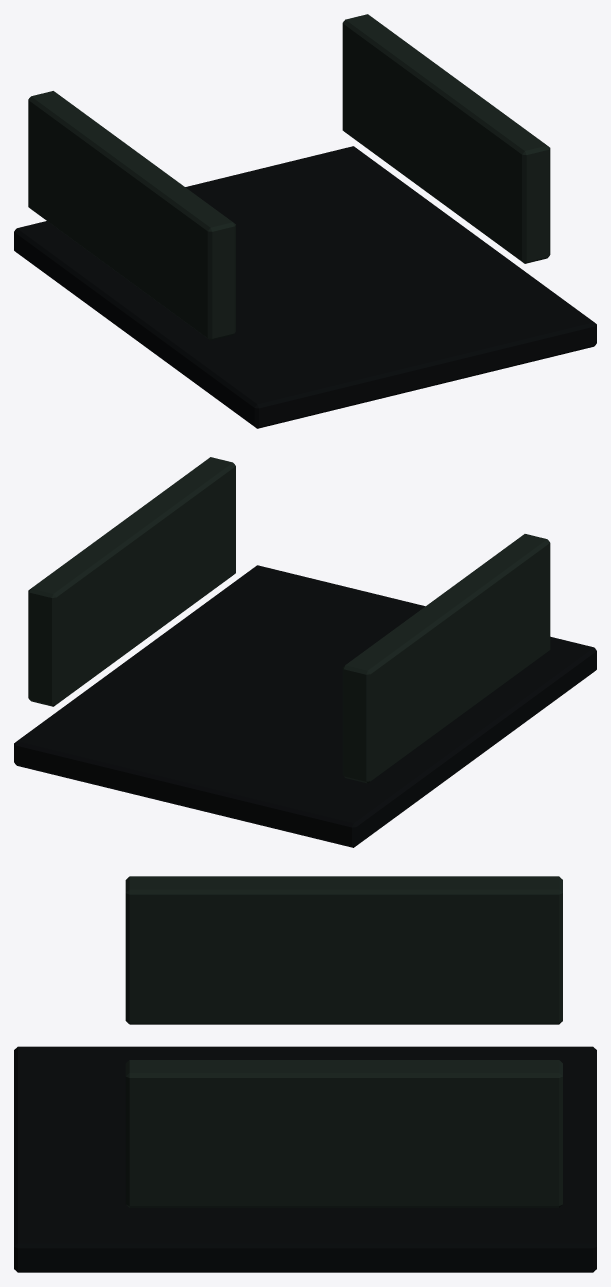
The model's file is Cockpit_DropPod__Shell.obj.
The picture shows the model from 3 angles, top to bottom: view 1: azimuth 30°, elevation 25°; view 2: azimuth 150°, elevation 25°; view 3: azimuth 270°, elevation 25°; orthographic projection. The views are drawn at different scales.
Parts seen in each view (by area): view 1: Floor, Side_console.001, Side_console; view 2: Floor, Side_console, Side_console.001; view 3: Floor, Side_console, Side_console.001.
Part boxes in pixels (left/top/right/bottom): Floor: left=14, top=146, right=596, bottom=428; Side_console.001: left=342, top=14, right=550, bottom=263; Side_console: left=28, top=91, right=235, bottom=340; Floor: left=14, top=565, right=596, bottom=847; Side_console: left=342, top=534, right=550, bottom=783; Side_console.001: left=28, top=457, right=235, bottom=706; Floor: left=14, top=1046, right=596, bottom=1272; Side_console: left=125, top=876, right=562, bottom=1024; Side_console.001: left=125, top=1060, right=562, bottom=1207.
Size of the model in its own units: 1.46 by 0.68 by 1.8.
